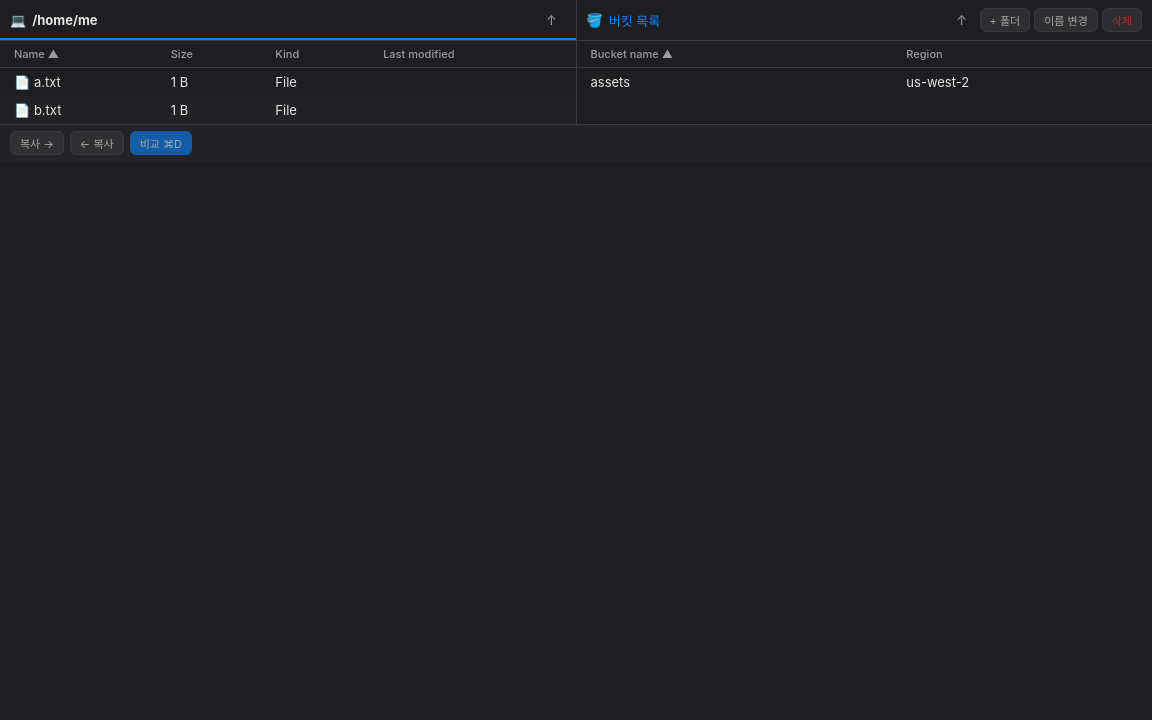
Test: drop while a confirm dialog is open is ignored with a notice
Double-click the text "assets" at point(610, 82), box [576,68,892,96]
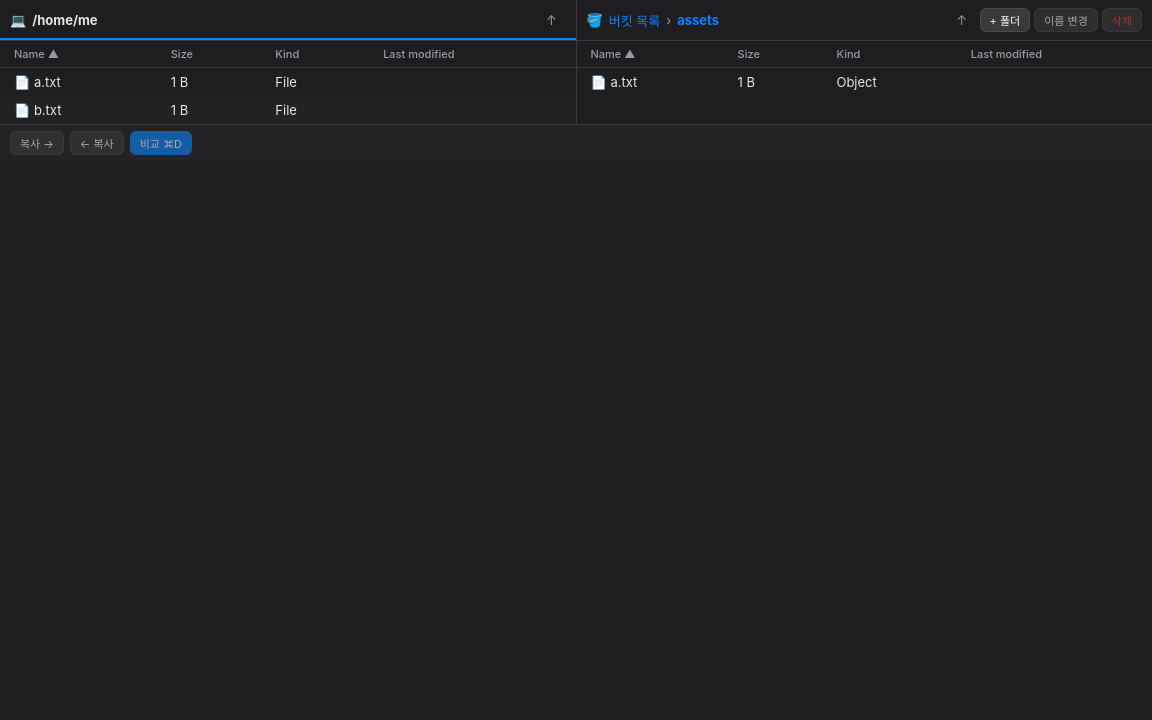
Expected: the text "📄 a.txt" in the row of "Object" is shown, [590,74,637,90]
Click the 1st text "📄 a.txt" at point(37, 82), box [0,68,157,96]
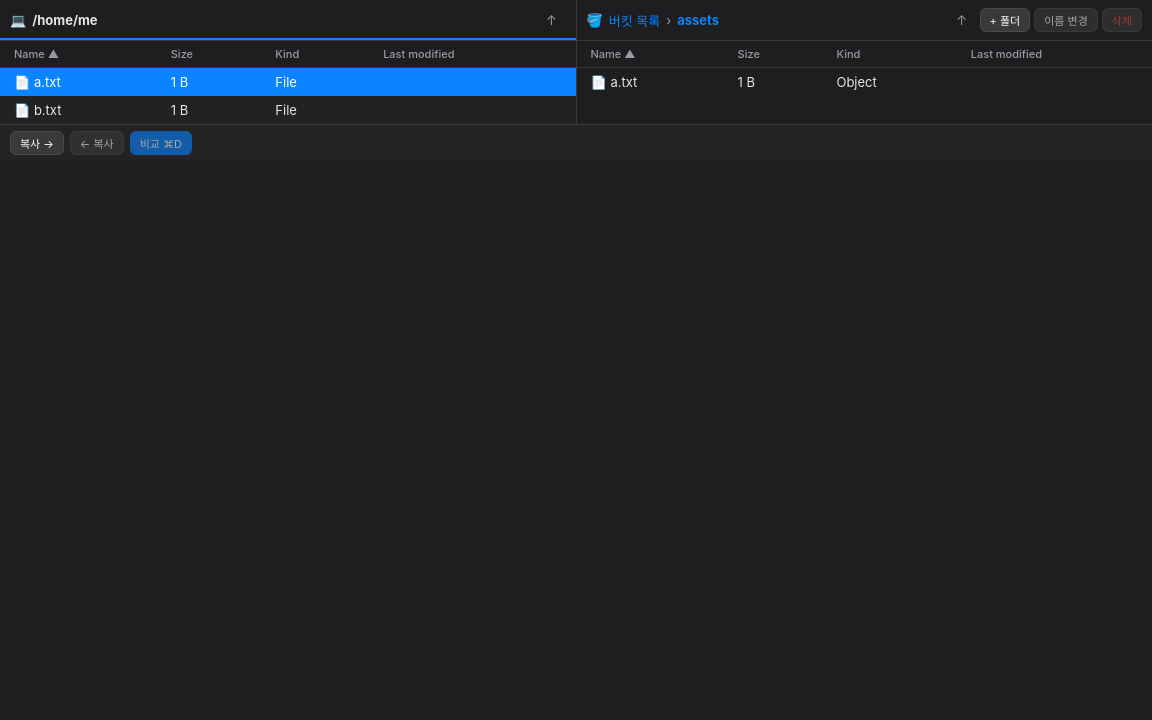
Click the button "복사 →" at point(37, 143), box [10,131,64,155]
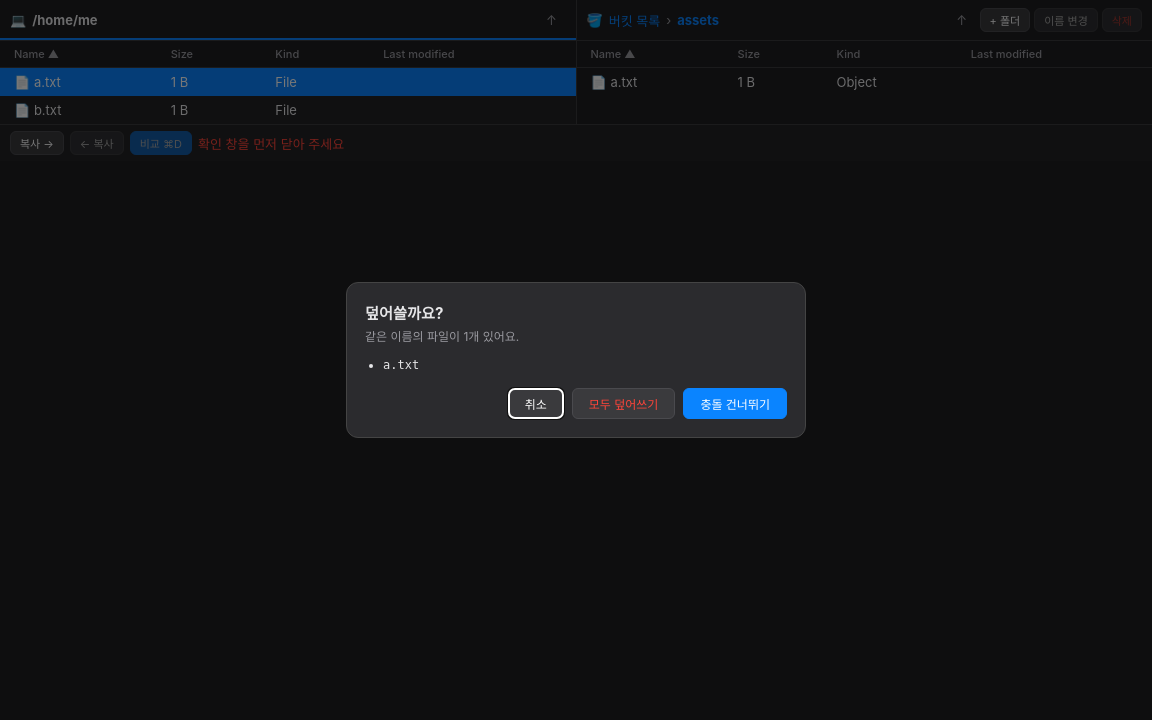
Expected: the text "확인 창을 먼저 닫아 주세요" is shown, [198,134,344,152]
Expected: the button "모두 덮어쓰기" is shown, [572,388,675,419]
